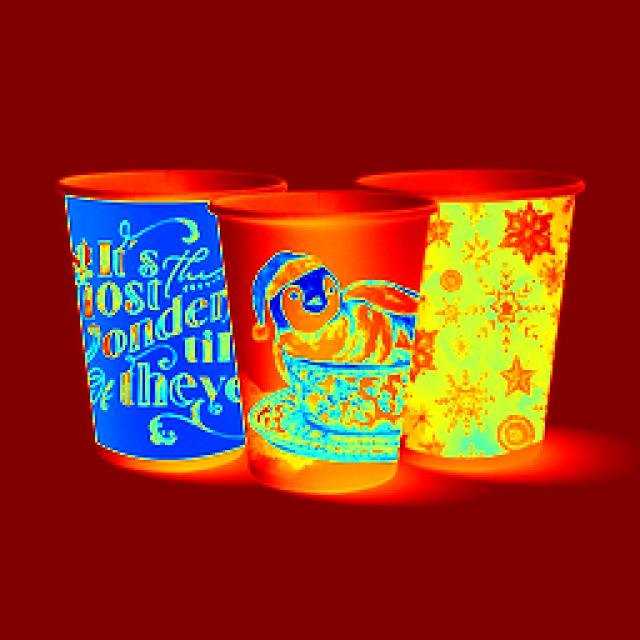Paper Cups: (209, 196, 426, 499)
